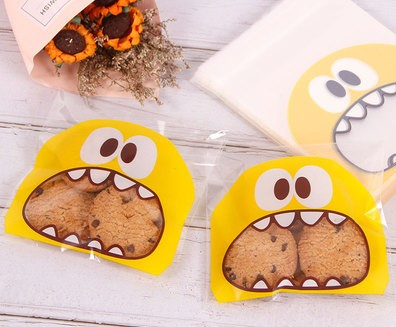Snack: (200, 126, 395, 312)
